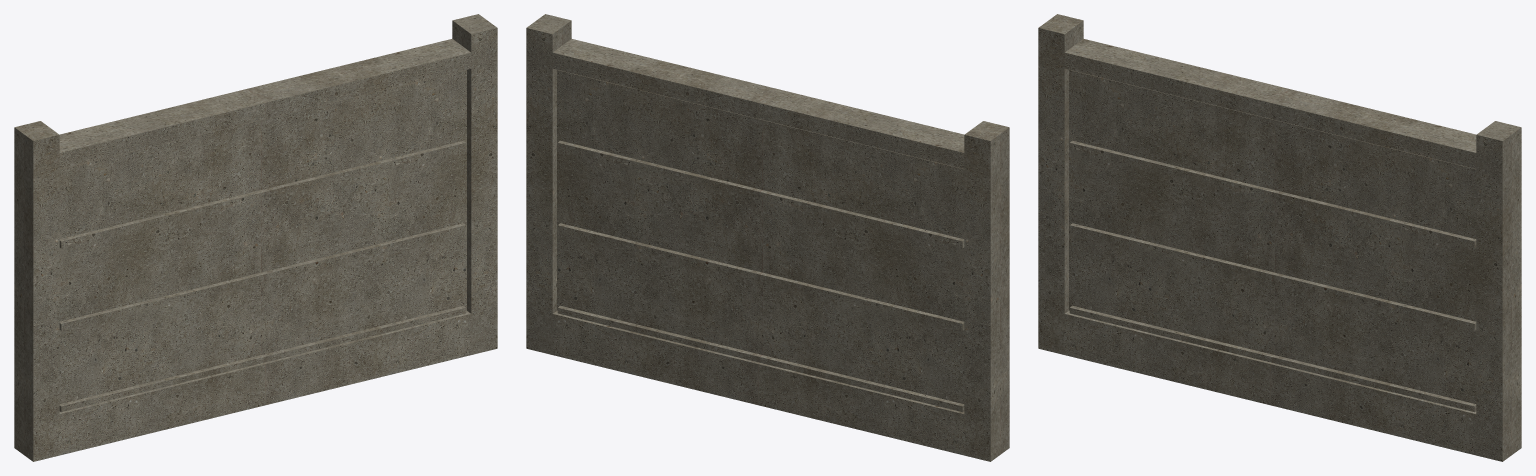
Rendered from atp_wall_4m.glb.
The picture shows the model from 3 angles, left to right: view 1: azimuth 30°, elevation 25°; view 2: azimuth 150°, elevation 25°; view 3: azimuth 330°, elevation 25°; orthographic projection.
Parts seen in each view (by area): view 1: atp_wall_4m; view 2: atp_wall_4m; view 3: atp_wall_4m.
Boxes of the visible parts, <box> form: atp_wall_4m: <box>14,14,497,461</box>; atp_wall_4m: <box>526,14,1009,461</box>; atp_wall_4m: <box>1038,14,1521,461</box>.
Bounding box in the file's own units: 4.24 × 2.8 × 0.3.
1 material, 1 textured.
